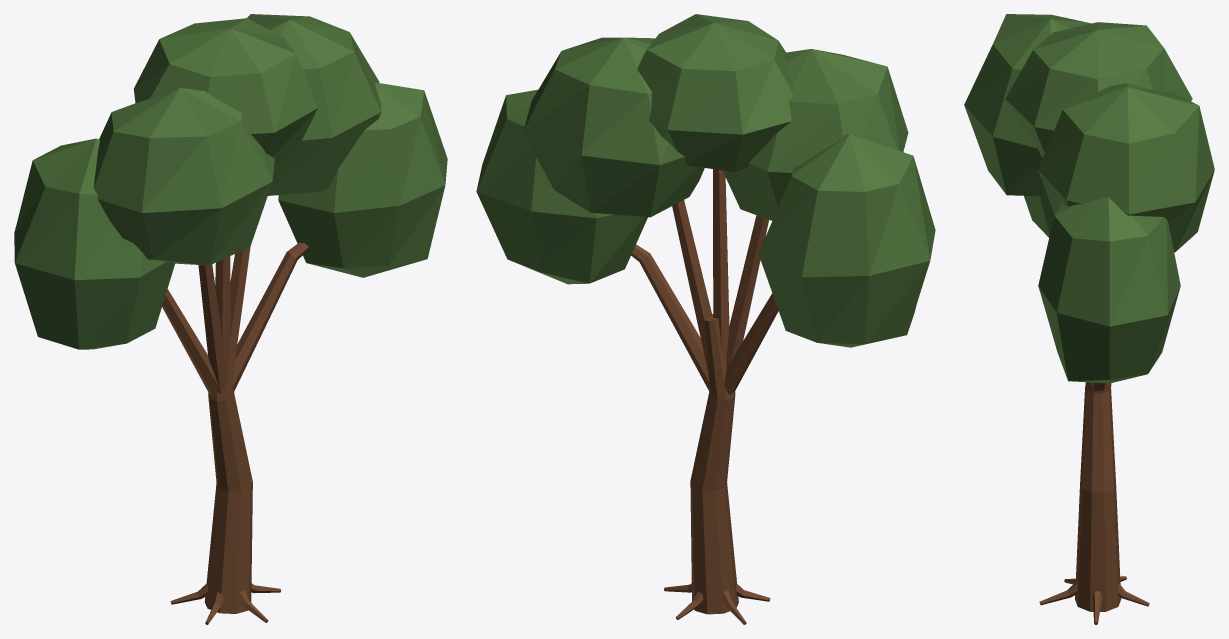
File: Plant_Common_VaseCrownElm_001.glb
The picture shows the model from 3 angles, left to right: view 1: azimuth 30°, elevation 25°; view 2: azimuth 150°, elevation 25°; view 3: azimuth 270°, elevation 25°; orthographic projection.
Visible parts, largest first — view 1: Plant_Common_VaseCrownElm_001; view 2: Plant_Common_VaseCrownElm_001; view 3: Plant_Common_VaseCrownElm_001.
Boxes of the visible parts, left/top/right/bottom form: Plant_Common_VaseCrownElm_001: left=14, top=14, right=447, bottom=624; Plant_Common_VaseCrownElm_001: left=476, top=14, right=935, bottom=624; Plant_Common_VaseCrownElm_001: left=964, top=14, right=1214, bottom=624.
Size of the model in its own units: 6.53 by 8.22 by 3.26.
